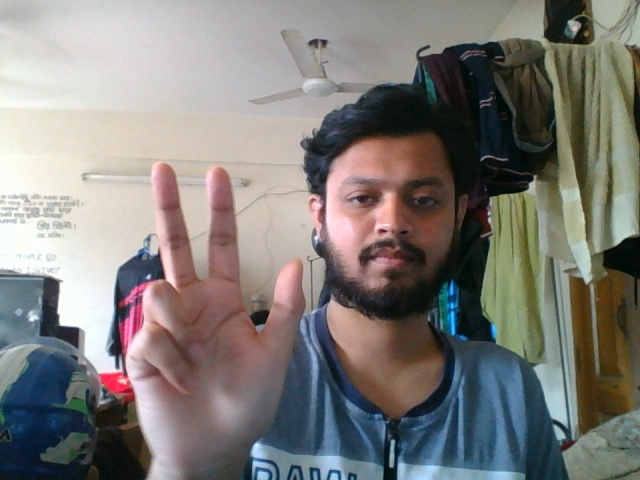da: (107, 156, 309, 459)
